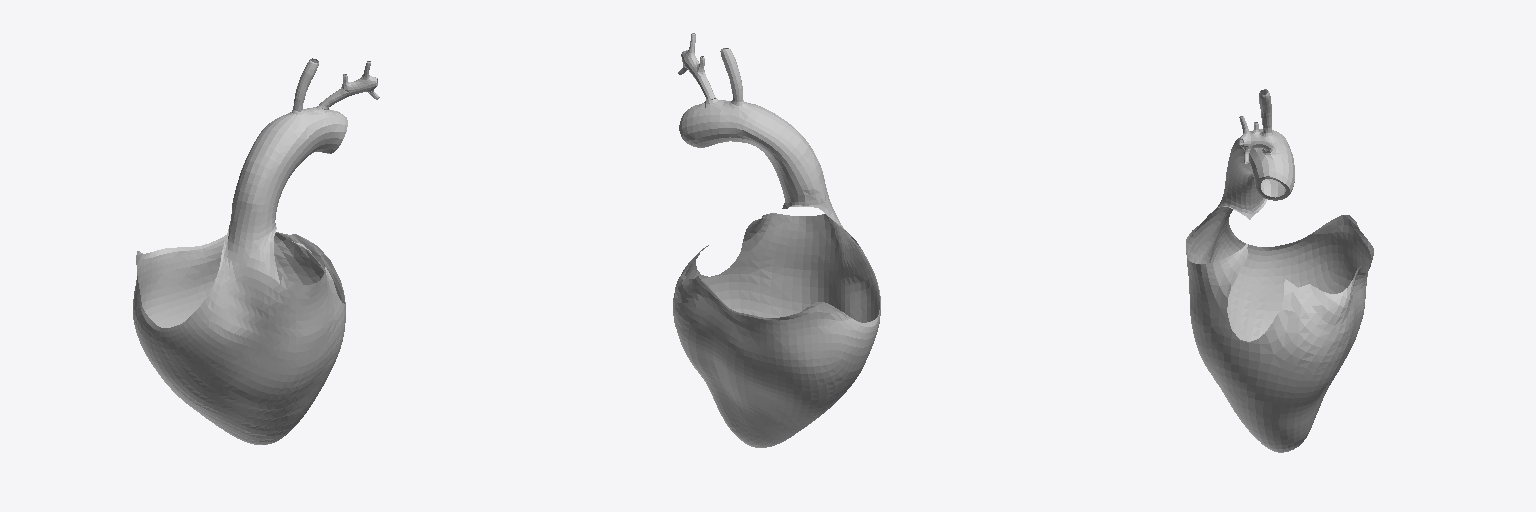
Rendered from rojo.obj.
3 views of the same model, side by side, from view 1: azimuth 30°, elevation 25°; view 2: azimuth 150°, elevation 25°; view 3: azimuth 270°, elevation 25° (orthographic).
Parts seen in each view (by area): view 1: rojo.014, rojo.006, rojo.004, rojo007; view 2: rojo.014, rojo.006, rojo007, rojo.004; view 3: rojo.014, rojo.006.
Part boxes in pixels (bbox=[...]): rojo.014: bbox=[133, 227, 345, 444]; rojo.006: bbox=[228, 106, 347, 240]; rojo.004: bbox=[319, 75, 377, 109]; rojo007: bbox=[292, 58, 318, 114]; rojo.014: bbox=[673, 204, 880, 447]; rojo.006: bbox=[679, 98, 830, 211]; rojo007: bbox=[720, 48, 744, 105]; rojo.004: bbox=[681, 50, 715, 99]; rojo.014: bbox=[1186, 200, 1373, 452]; rojo.006: bbox=[1222, 129, 1294, 219].
Bounding box in the file's own units: 0.1373 × 0.2349 × 0.1057.